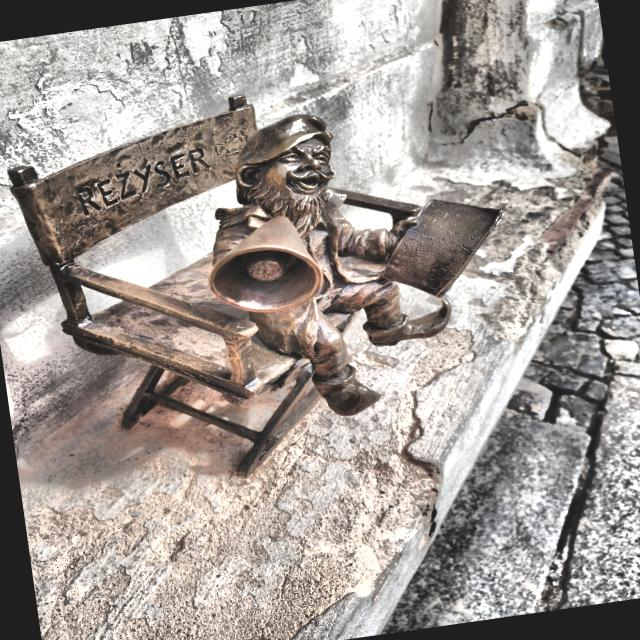Rezyser: (10, 96, 501, 474)
